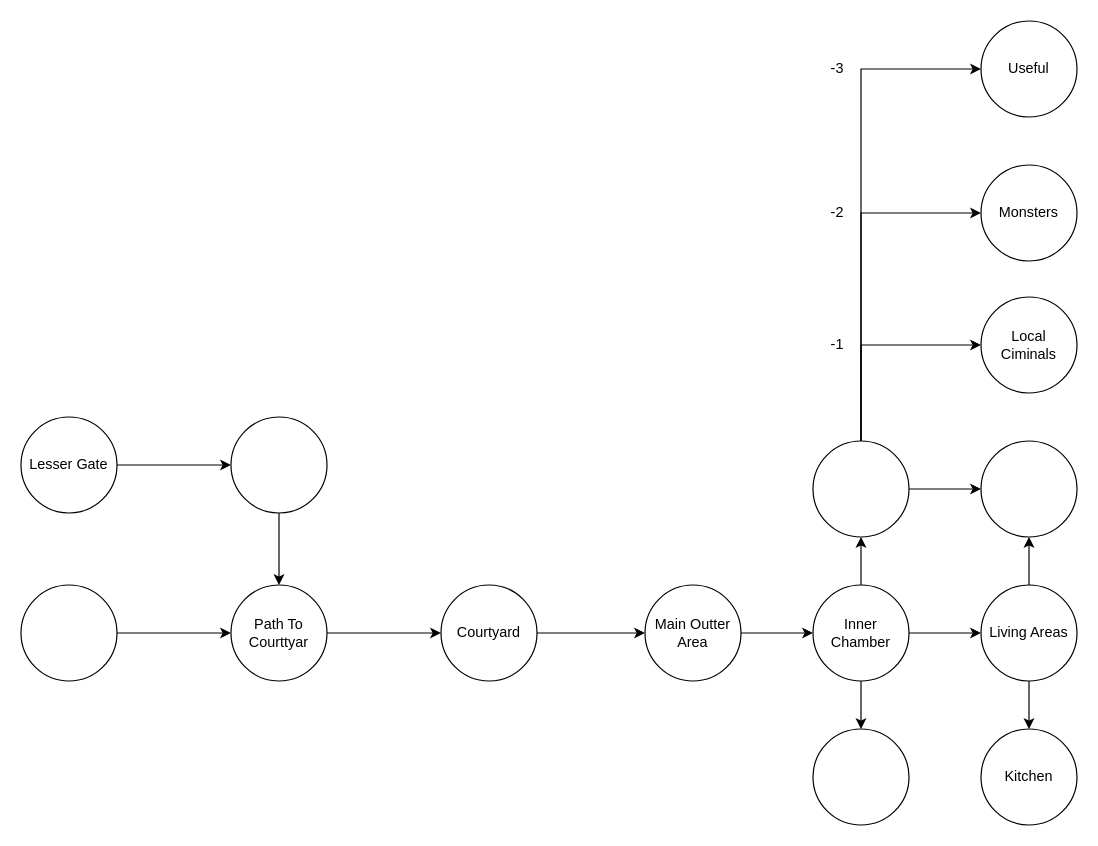
The diagram is 1098 pixels wide and 846 high, and some of its shapes have lost their labels. Each missing label, with the centre of its shape:
Drop-off: the point at 278,464
Greater Gate: the point at 68,632
Library: the point at 1028,488
Prison Staircase: the point at 860,488
Weapons: the point at 860,776
